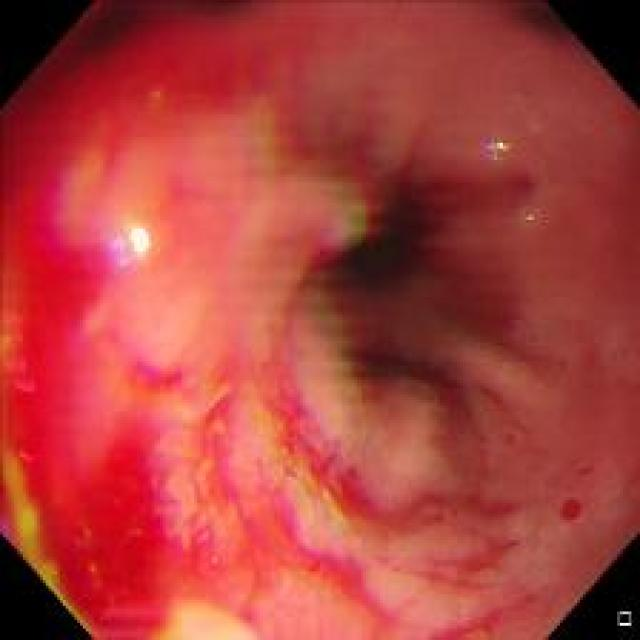blood: (60, 369, 216, 634)
blur: (29, 68, 332, 542)
color misalignment: (25, 140, 136, 290), (240, 385, 328, 519), (304, 278, 389, 404), (239, 102, 312, 178), (326, 162, 388, 248), (392, 358, 470, 425), (470, 131, 525, 171), (515, 195, 548, 239)
specularity: (121, 218, 155, 256)
